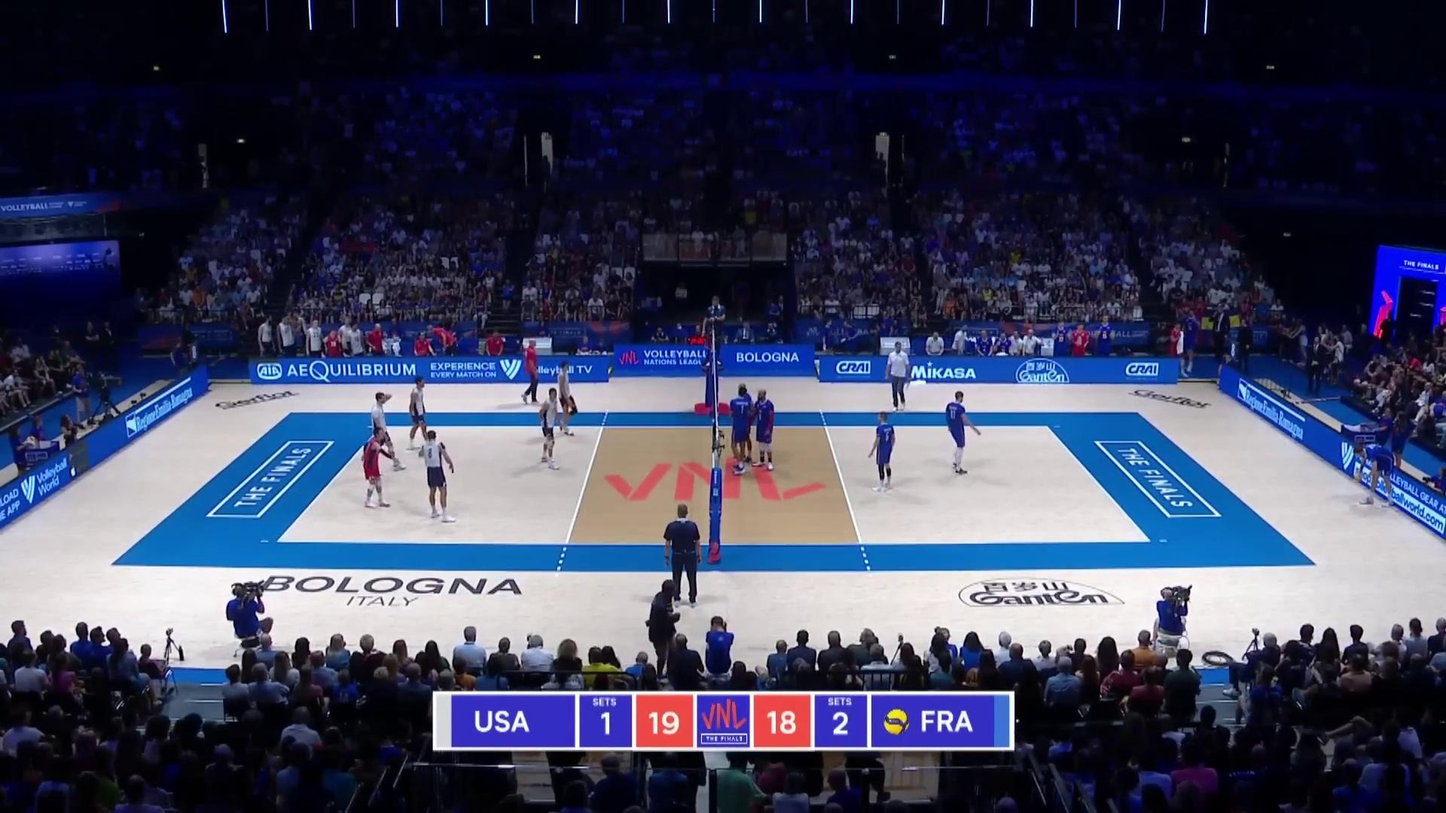player: (419, 431, 454, 524), (1354, 443, 1398, 507), (945, 392, 978, 477), (357, 429, 391, 510), (370, 392, 403, 471), (733, 382, 758, 470), (728, 388, 752, 477), (755, 390, 780, 474), (871, 412, 896, 493), (537, 390, 562, 470), (408, 375, 433, 452), (555, 362, 576, 435)
refree: (662, 503, 703, 607), (704, 297, 726, 368)
